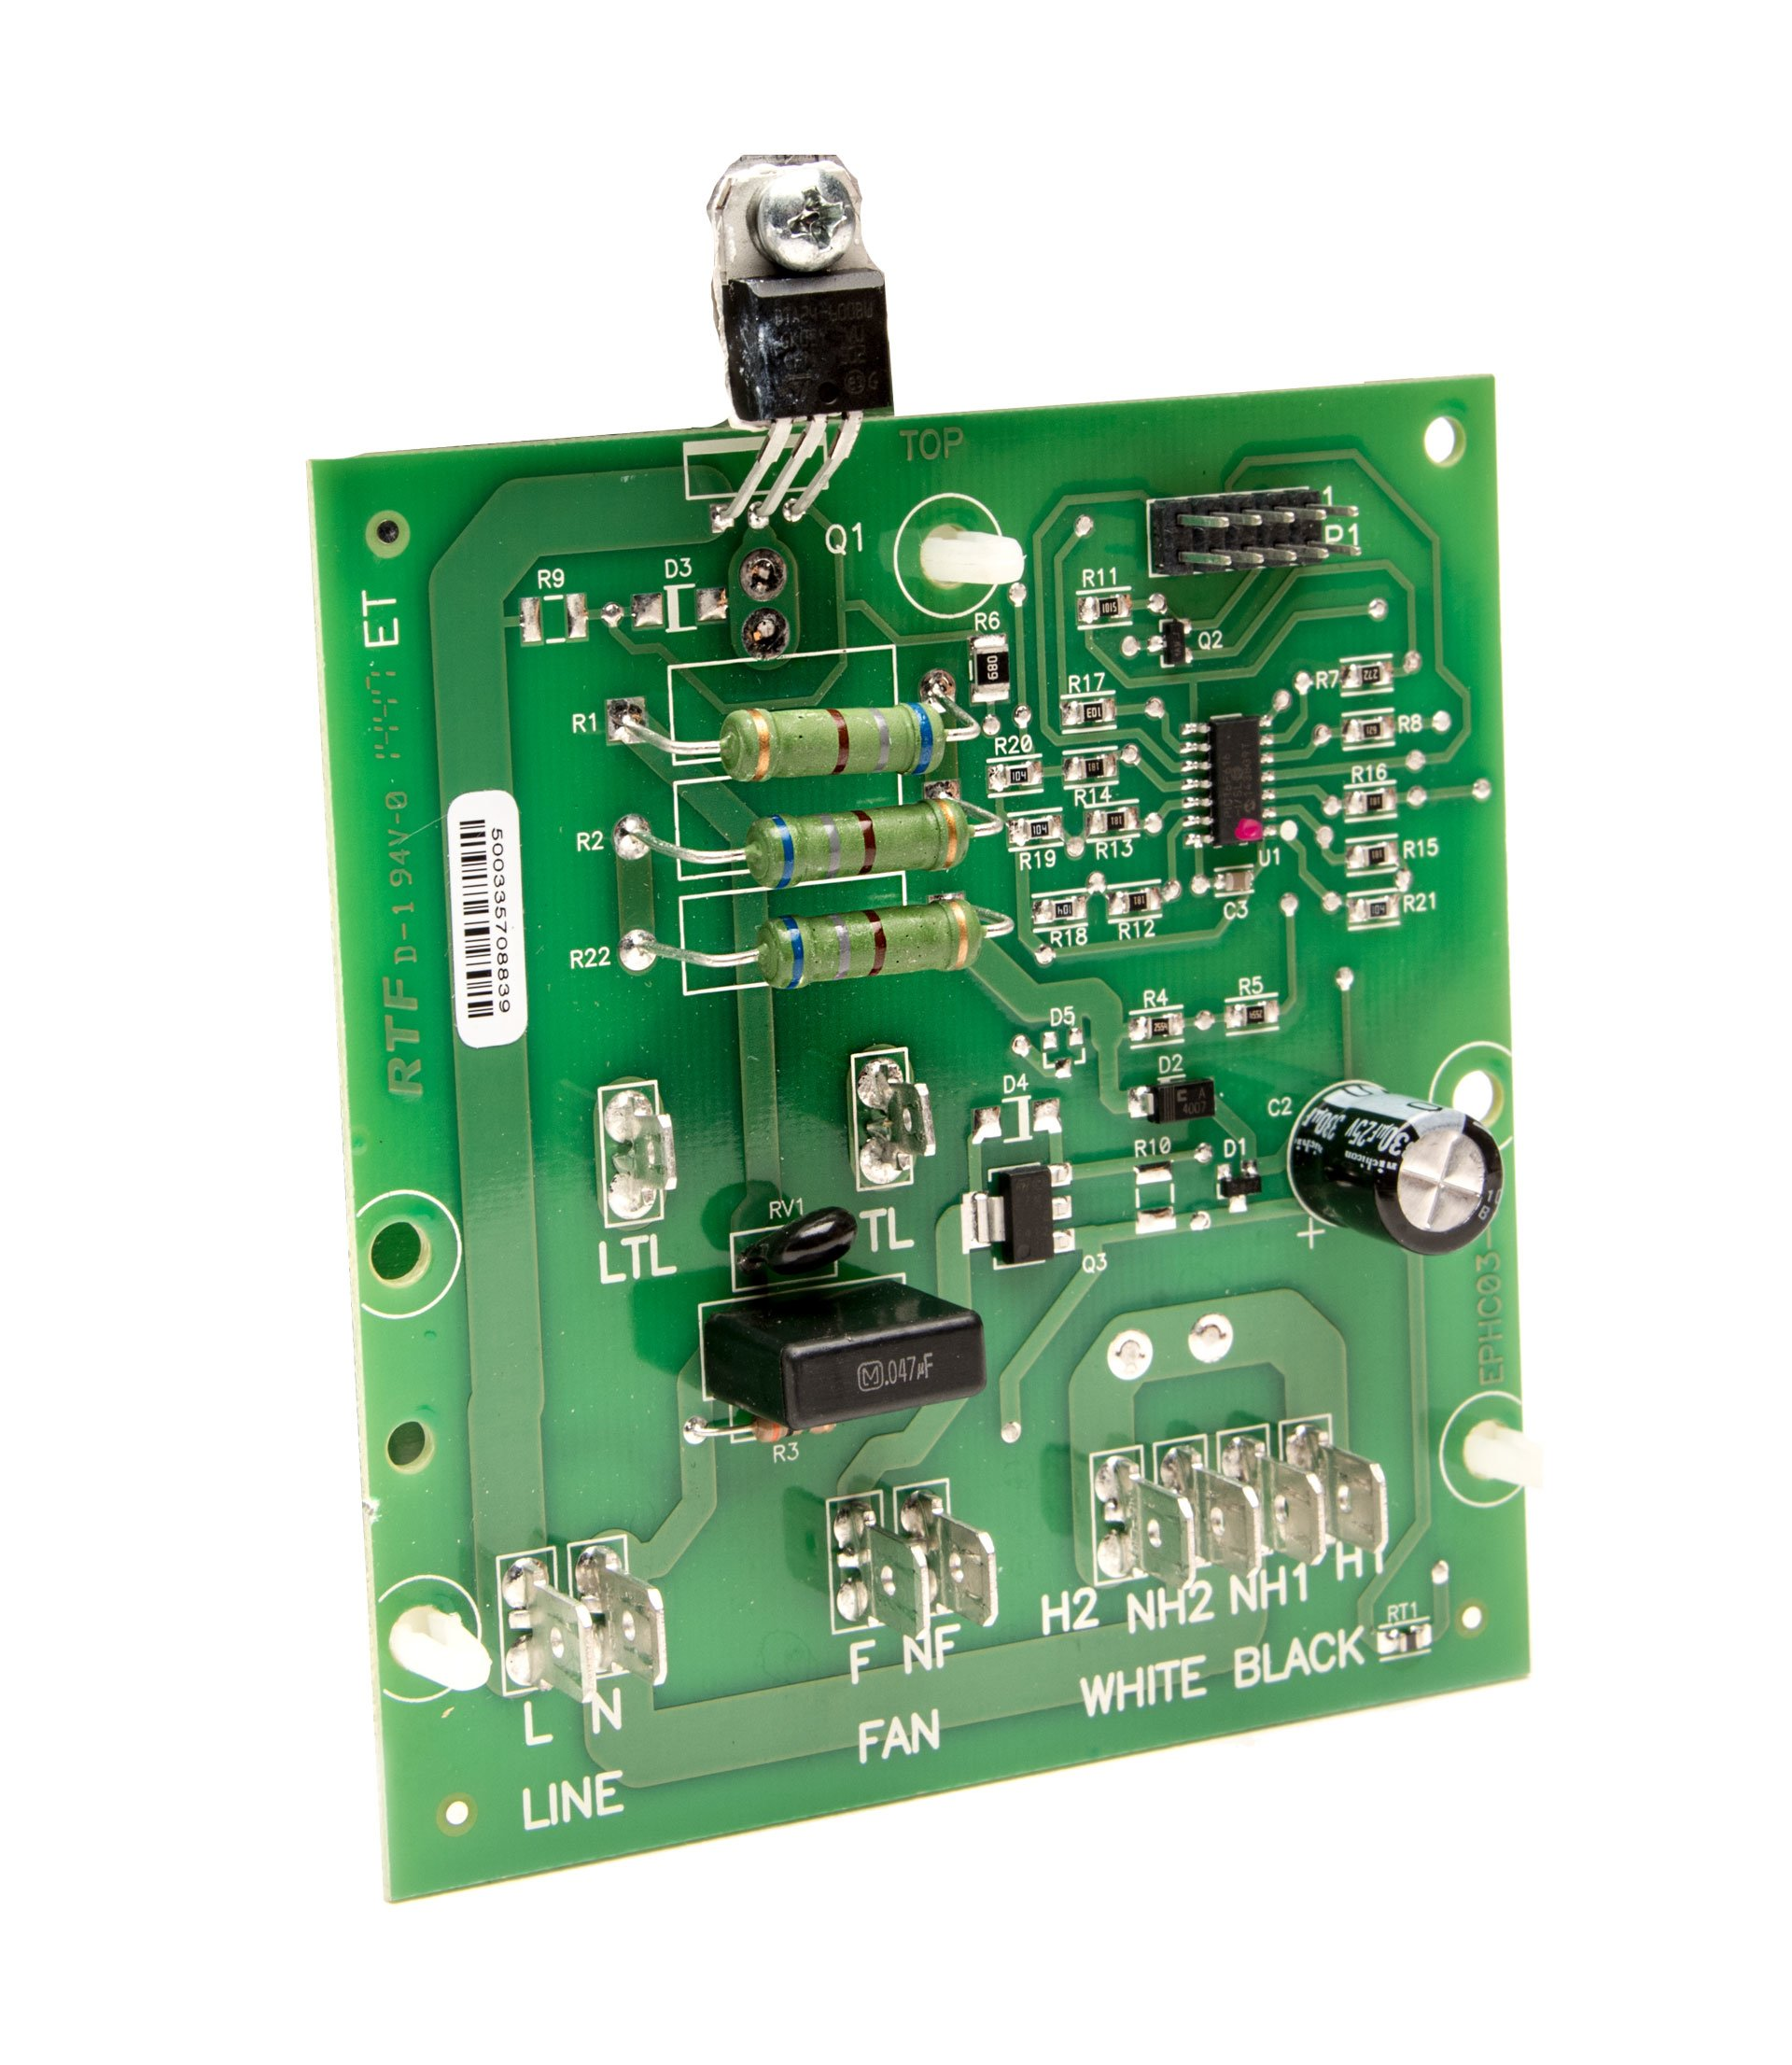capacitor: (1265, 1040, 1536, 1289)
